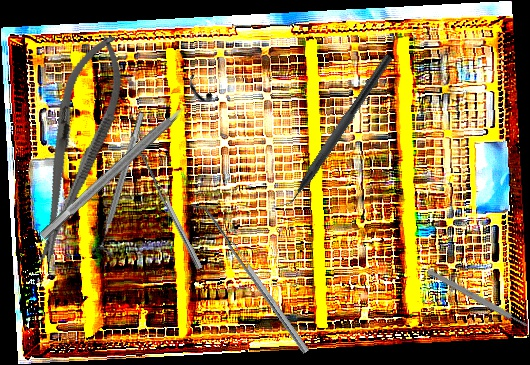Chopper: (269, 45, 394, 221)
Fixation Ring: (30, 73, 215, 249), (89, 108, 154, 261)
Needle Holder: (15, 27, 137, 269)
Scalpel Handle: (426, 268, 529, 329)
Spatula Surgical: (190, 196, 310, 359), (132, 148, 203, 273)
